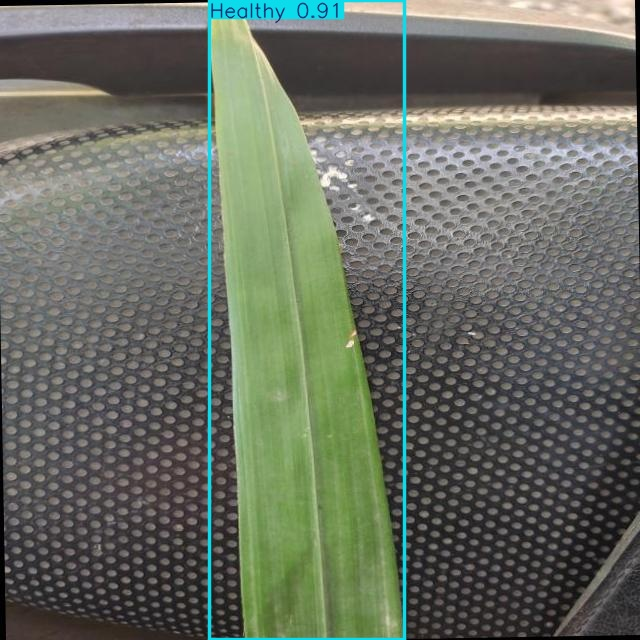Healthy: (209, 1, 404, 640)
